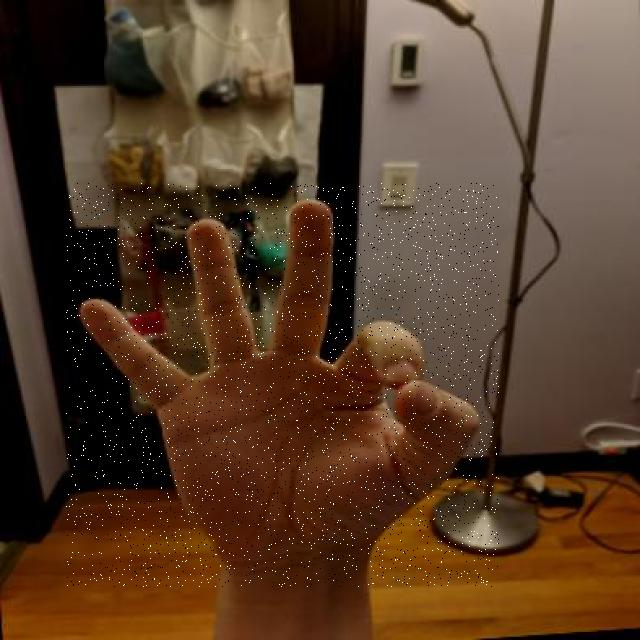F: (66, 183, 499, 587)
